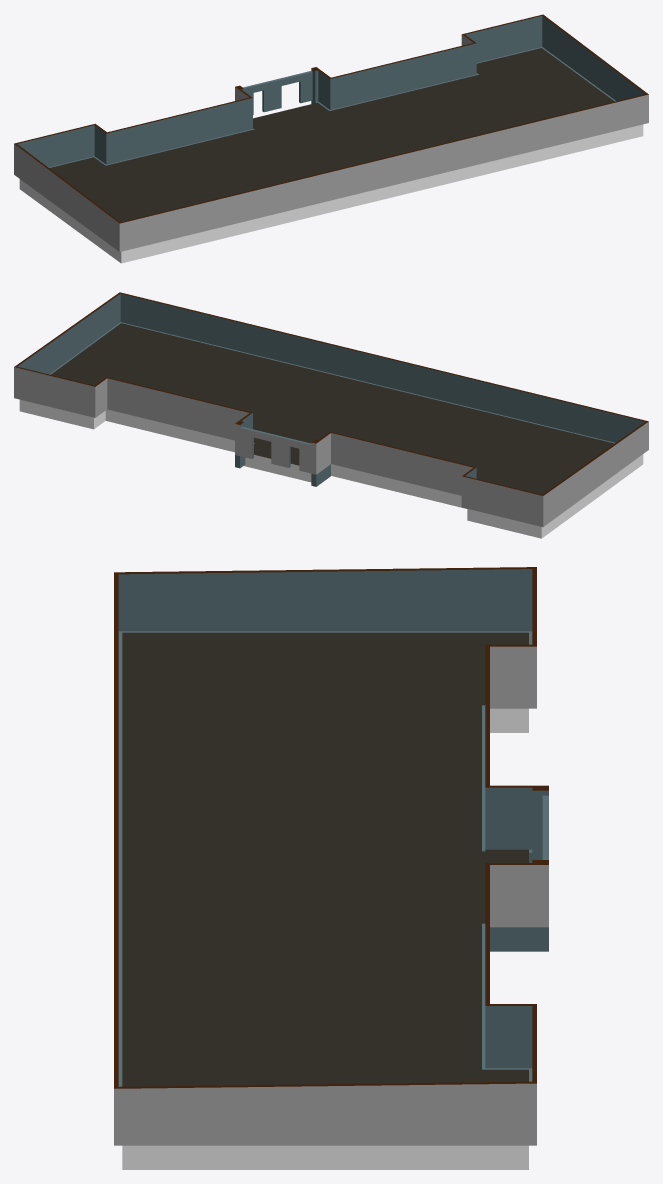
File: walls.fbx
The picture shows the model from 3 angles, top to bottom: view 1: azimuth 30°, elevation 25°; view 2: azimuth 150°, elevation 25°; view 3: azimuth 270°, elevation 25°; orthographic projection. The views are drawn at different scales.
Parts seen in each view (by area): view 1: Wall_055, Wall_016; view 2: Wall_016, Wall_055; view 3: Wall_055, Wall_016.
Part boxes in pixels (x1,y1,x2,y2): Wall_055: [19, 48, 643, 263]; Wall_016: [14, 14, 648, 251]; Wall_016: [14, 292, 648, 526]; Wall_055: [19, 323, 643, 538]; Wall_055: [122, 632, 528, 1169]; Wall_016: [114, 567, 548, 1145].
Bounding box in the file's own units: 5200 × 422 × 1850.
